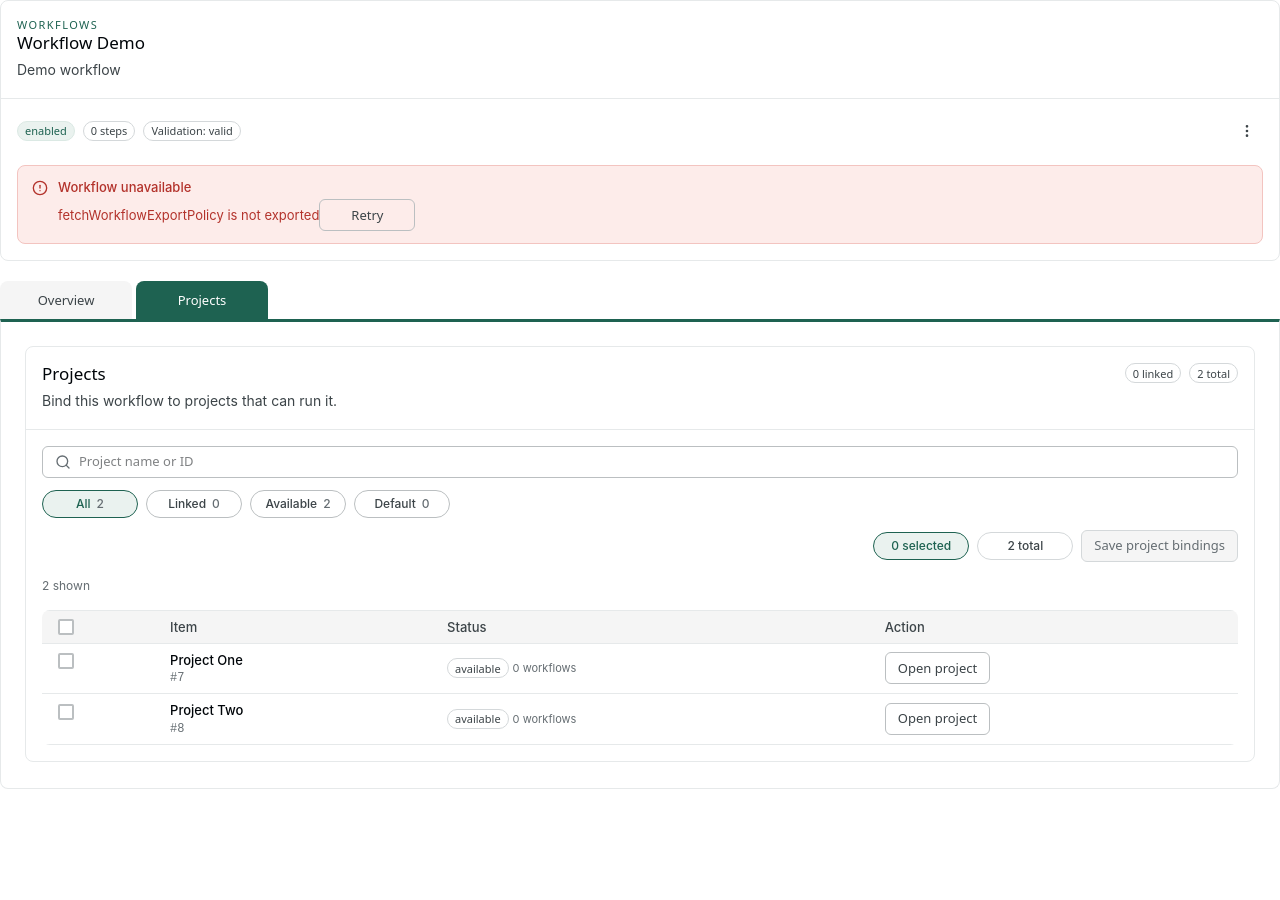
Test: WorkflowsProjectsPage › keeps a vanished failed project named without counting or retrying its hidden selection
The width and height of the screenshot is (1280, 900).
Click the checkbox named "Toggle Project One" at (66, 661), box [58, 653, 74, 669]
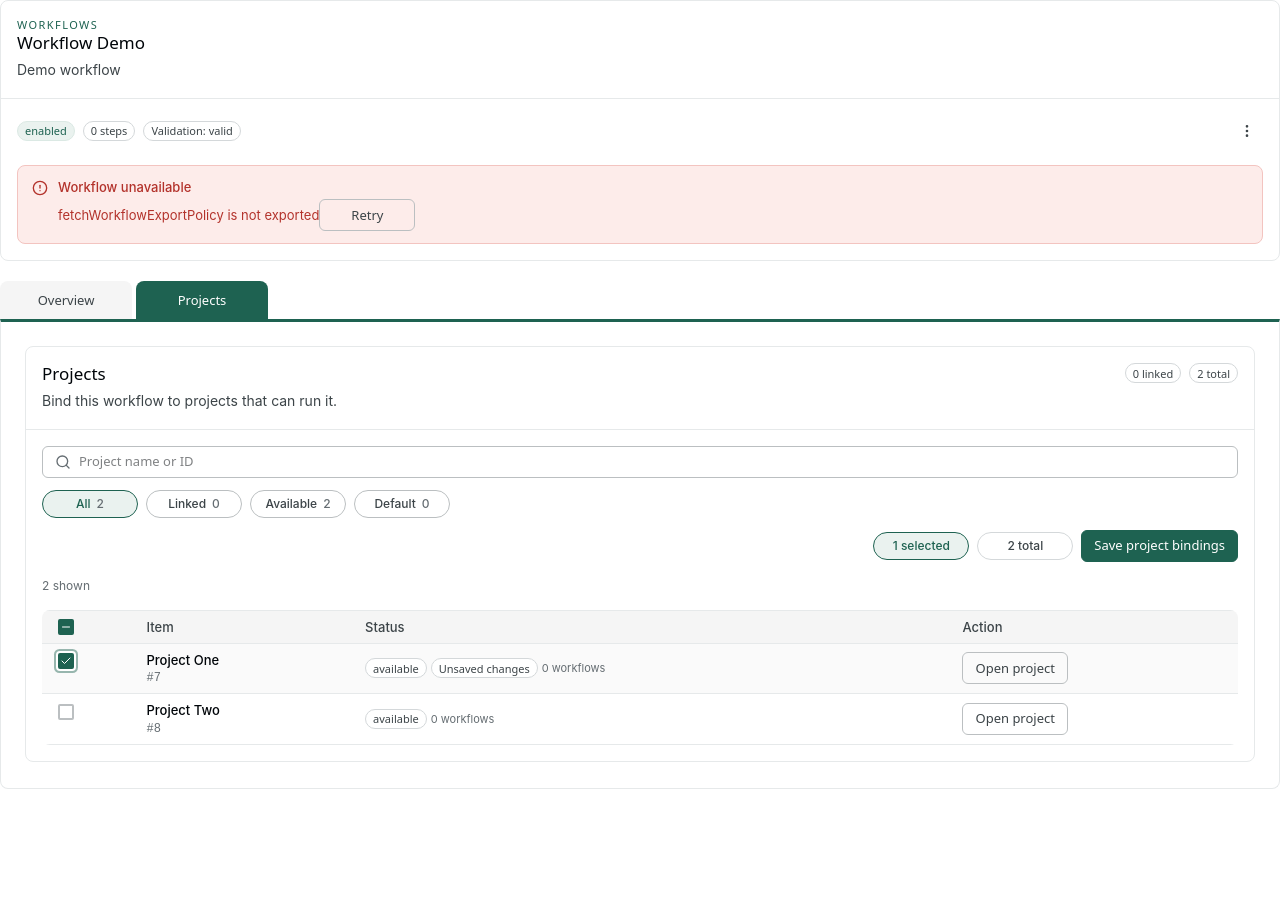
Click the checkbox named "Toggle Project Two" at (66, 712), box [58, 704, 74, 720]
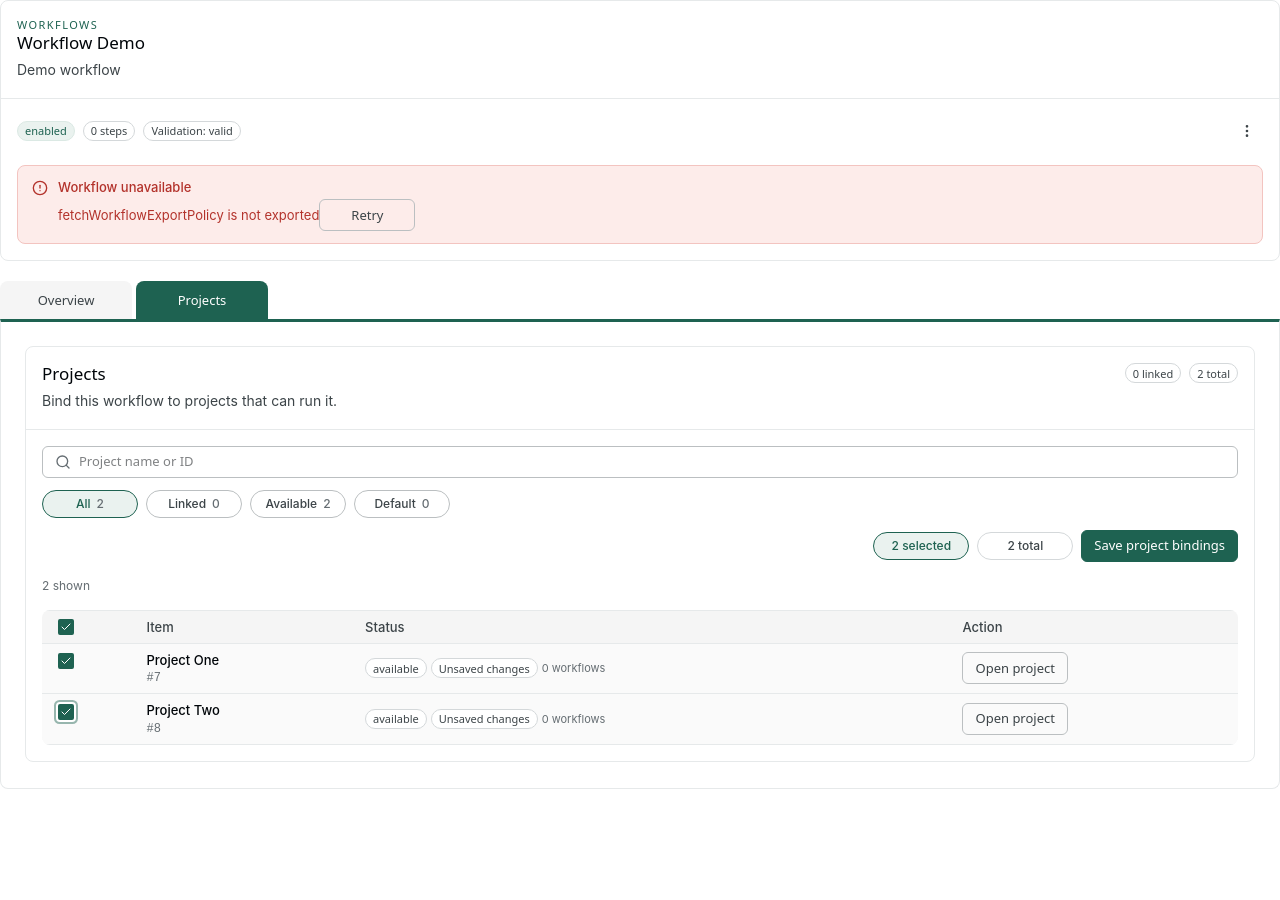
Click the button "Save project bindings" at (1160, 546), box [1081, 530, 1238, 562]
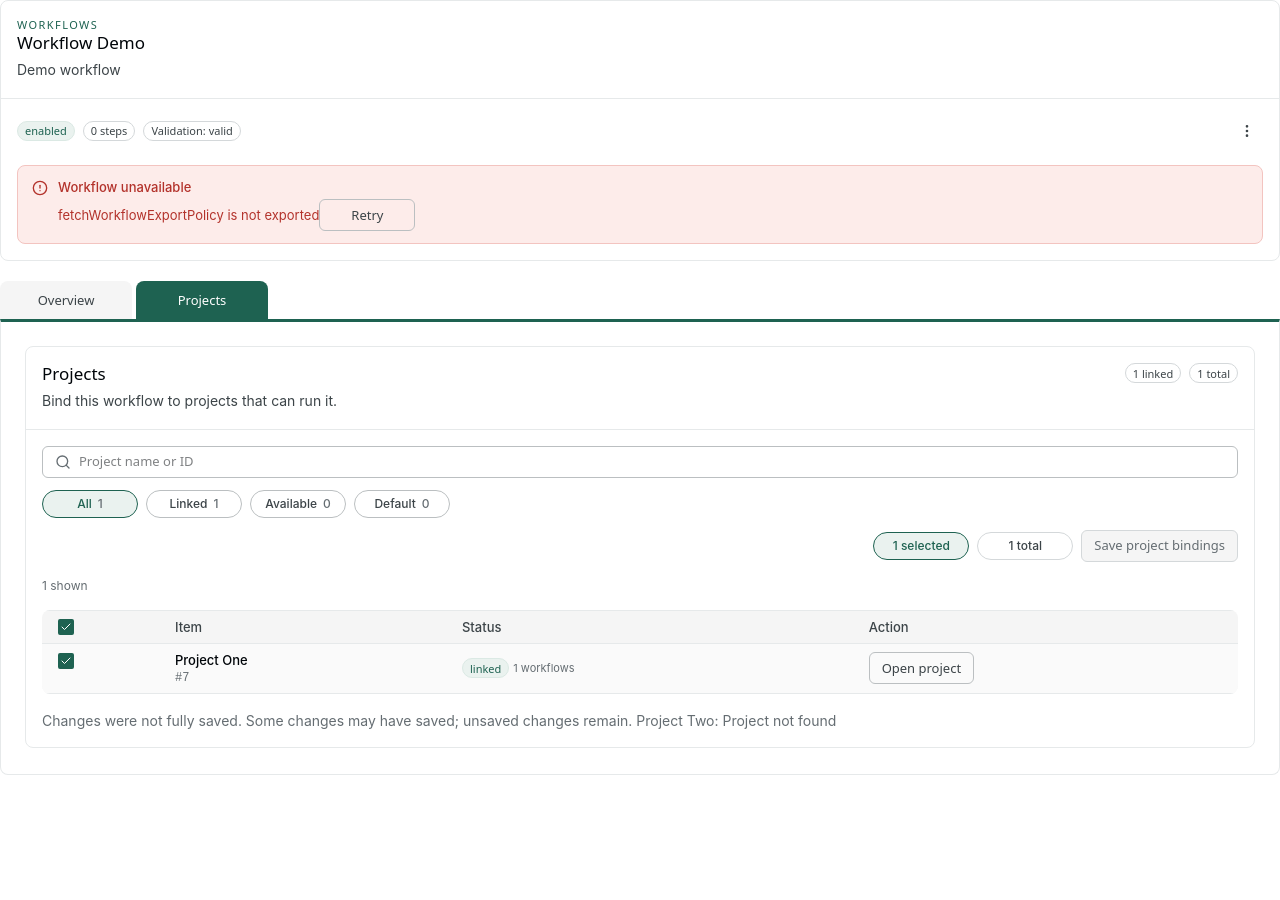
Result: the text "Project Two: Project not found" is shown at [42, 712, 836, 729]
Result: the text "1 linked" is shown at [1125, 363, 1181, 383]
Result: the text "1 selected" is shown at [873, 532, 969, 560]
